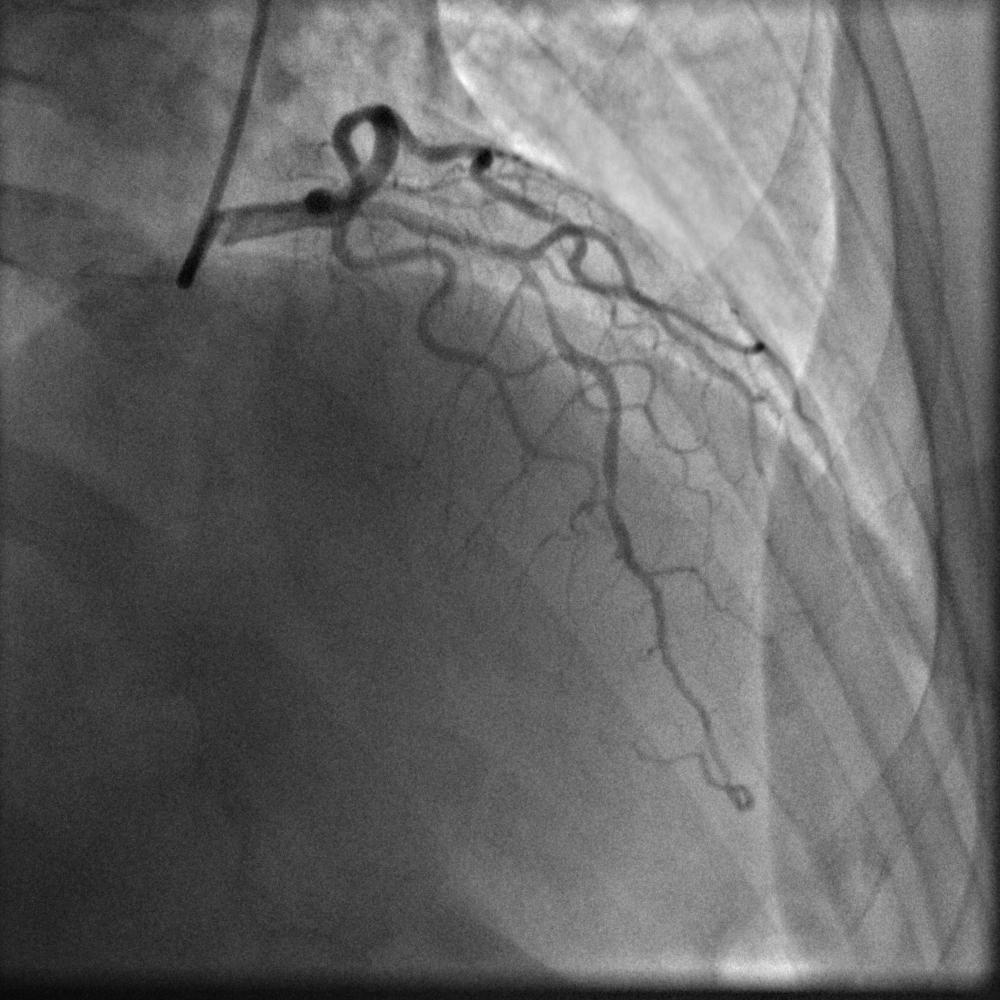Stenosis: (531, 278, 571, 341)
